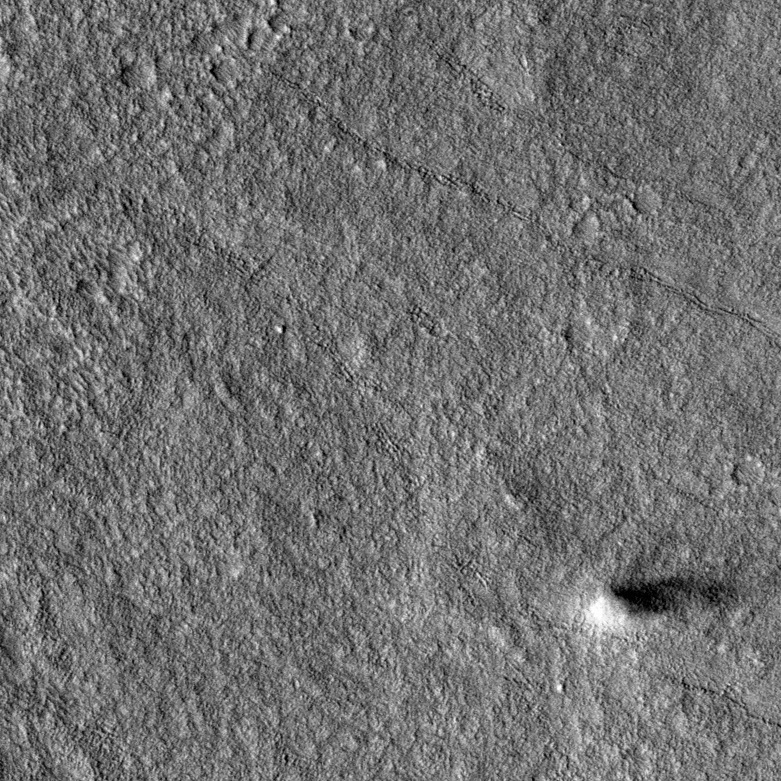dust_devil: (585, 571, 741, 634)
